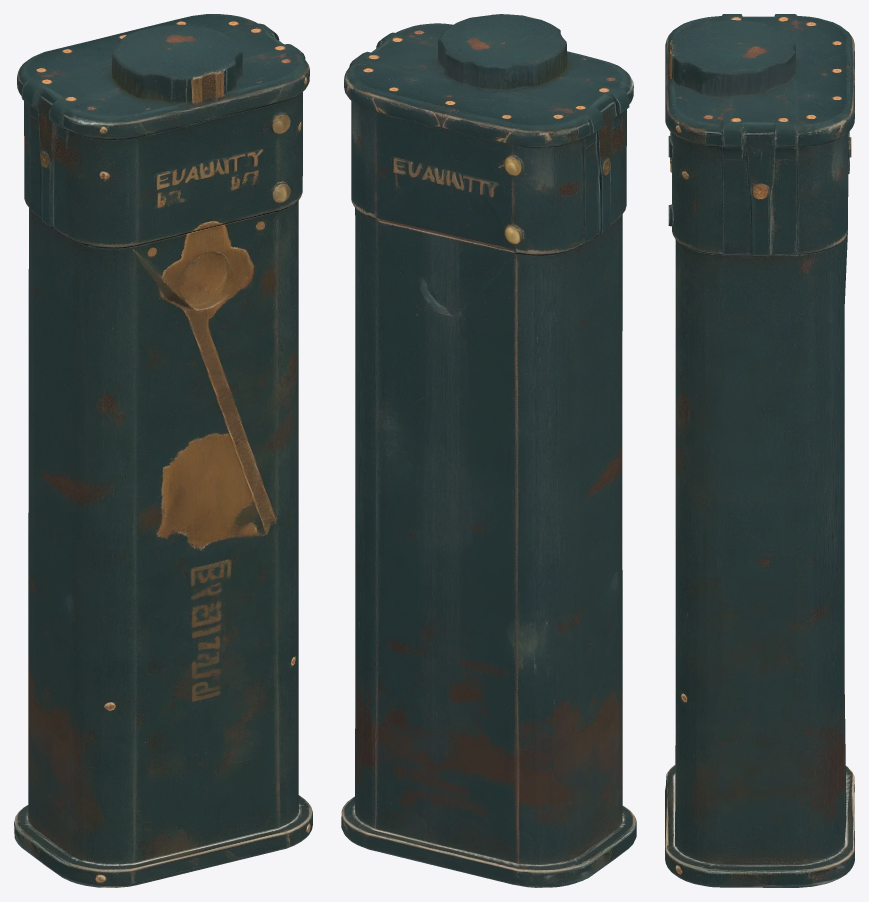
File: mod_endless.glb
3 views of the same model, side by side, from view 1: azimuth 30°, elevation 25°; view 2: azimuth 150°, elevation 25°; view 3: azimuth 270°, elevation 25° (orthographic).
Bounding box in the file's own units: 0.6194 × 1.9 × 0.4158.
1 material, 1 textured.
